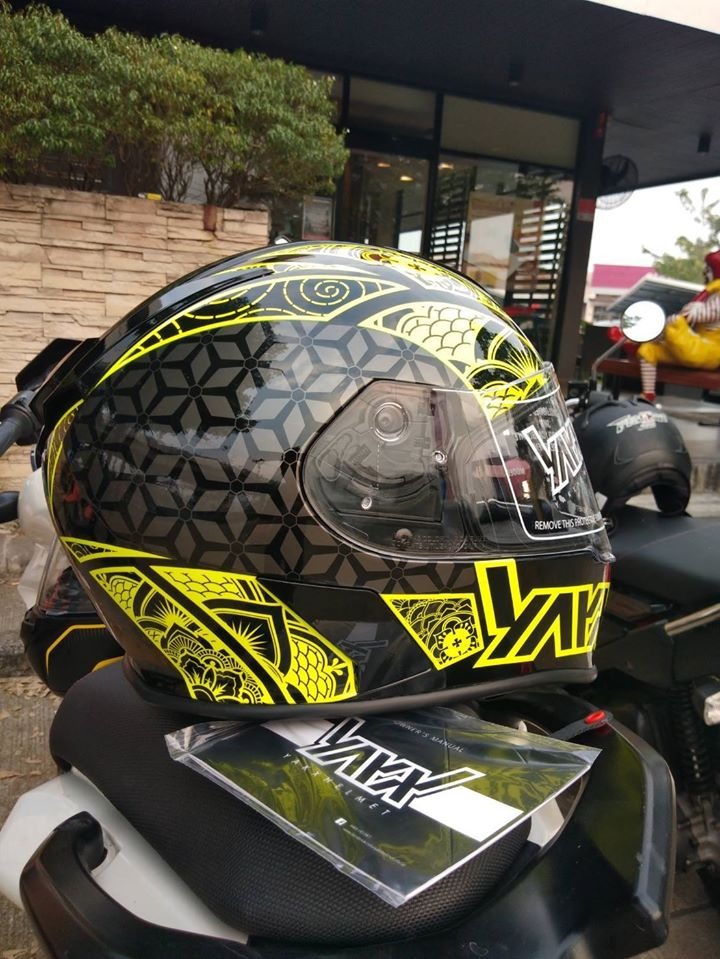helmet: (41, 239, 614, 720)
